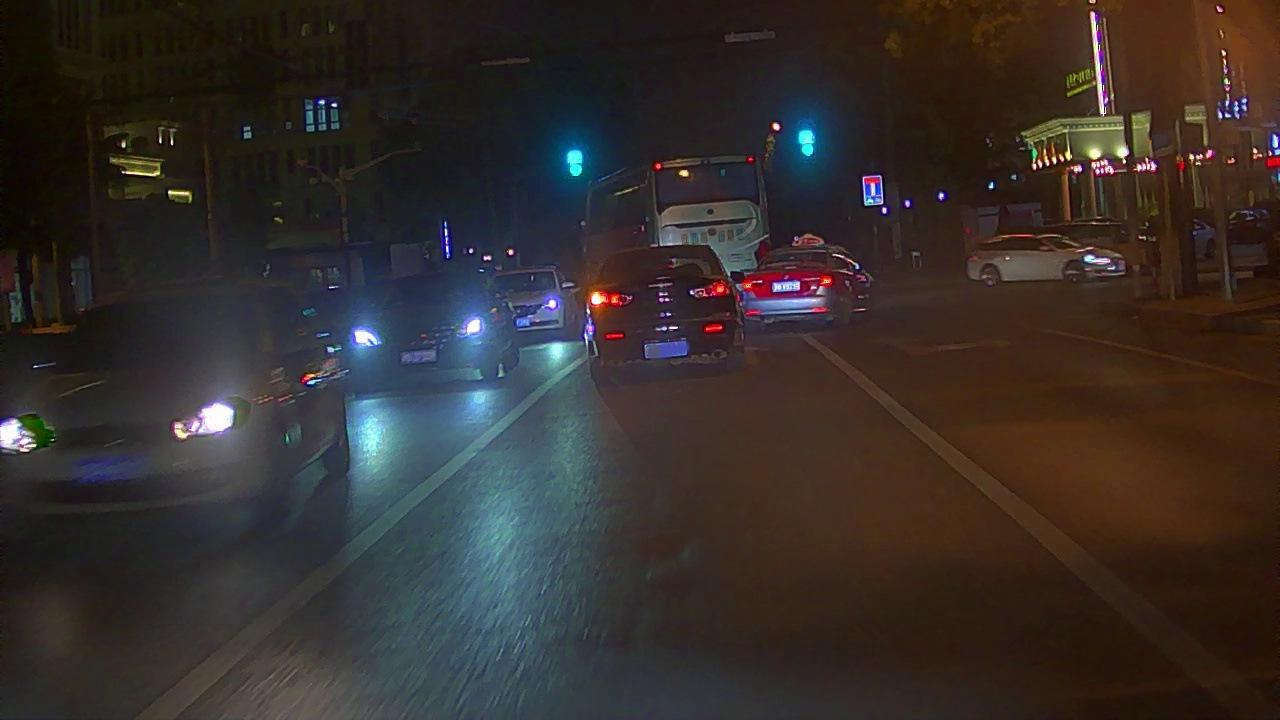traffic_light: (562, 143, 589, 181), (795, 125, 821, 161)
